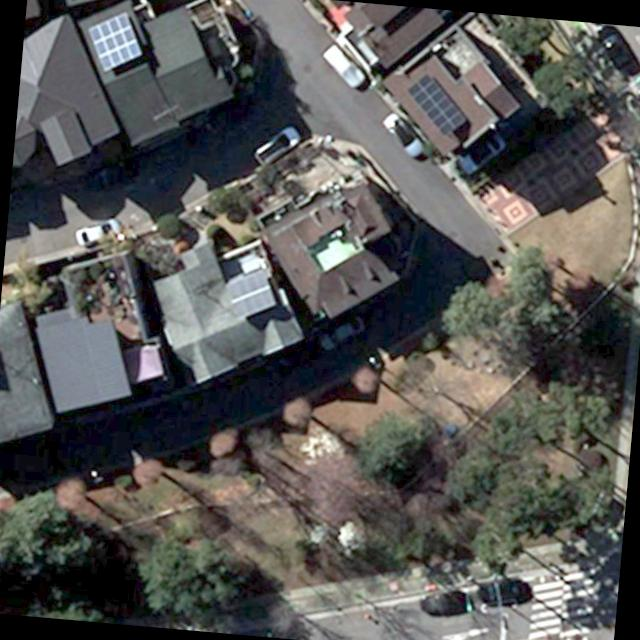solar: (79, 8, 148, 76), (402, 72, 468, 140), (222, 268, 279, 321)
